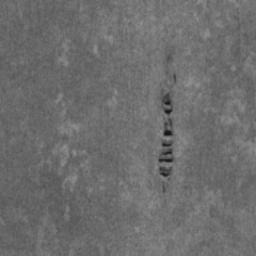Secondary rust skin: (157, 91, 175, 178)
